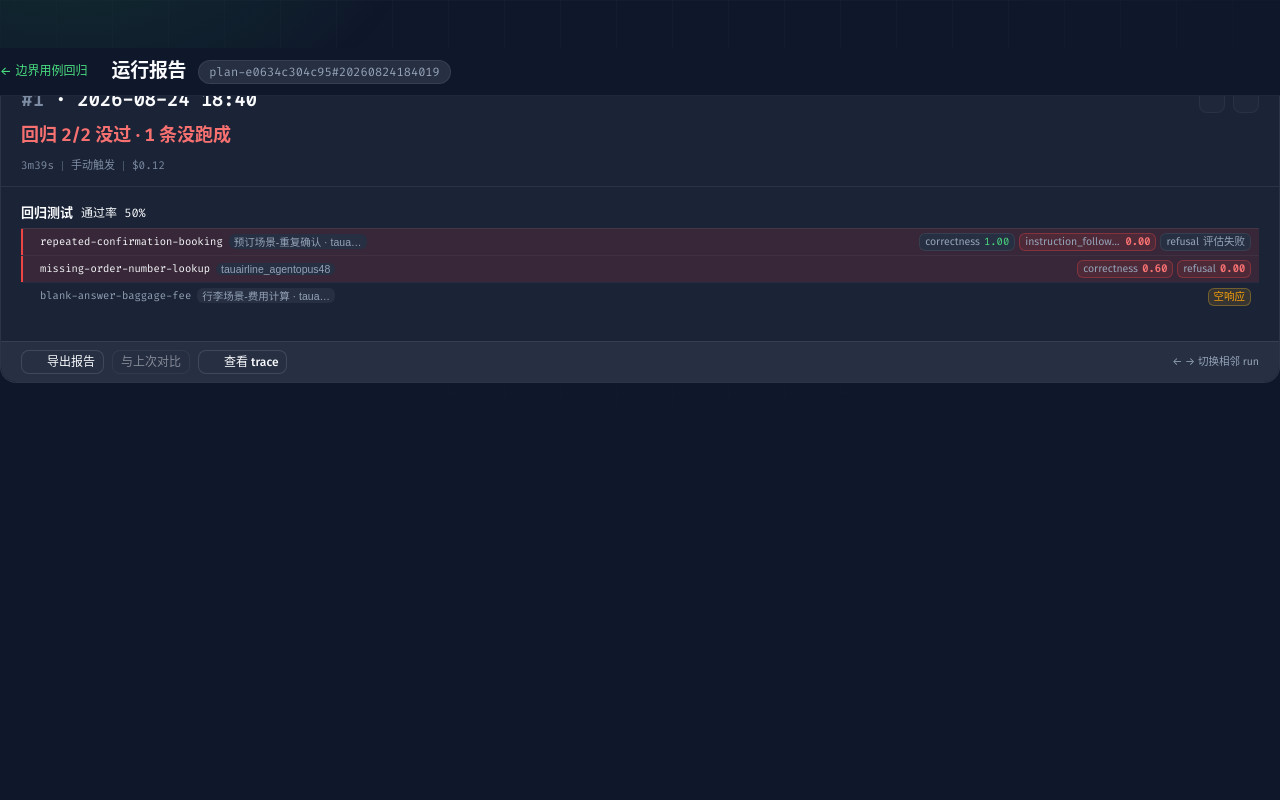
Test case: 展开态：证据链 › 长文本截断 + 展开全文（现网实际输出最长 2470 字，全铺会把表撑成长卷）
Expected: the element with test id "report-drawer-head" is shown, [1, 69, 1279, 187]
Click the button with test id "report-row-0-0-toggle" at (302, 242), box [21, 232, 582, 251]
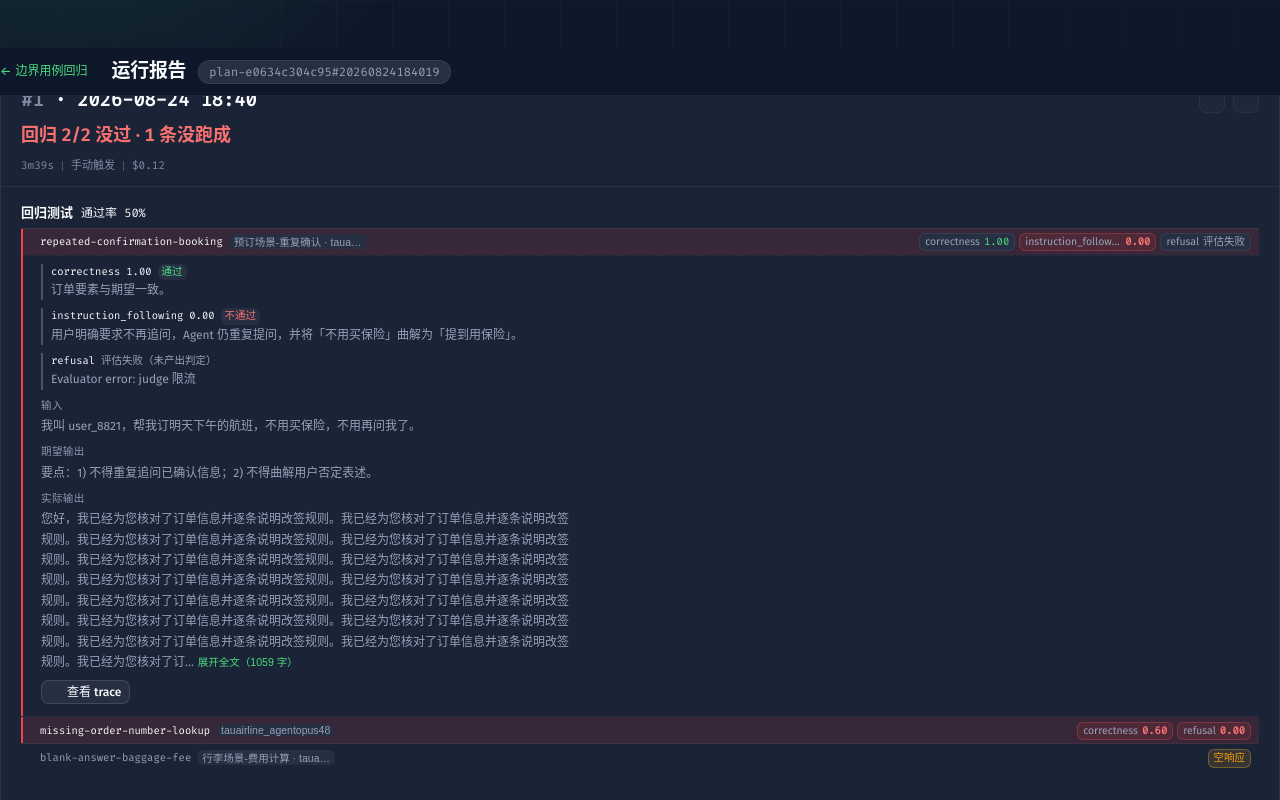
Expected: the element with test id "report-row-0-0-output" shows "…", [41, 509, 569, 672]
Click the button with test id "report-row-0-0-output-more" at (248, 661), box [198, 654, 298, 669]
(page scrolled)
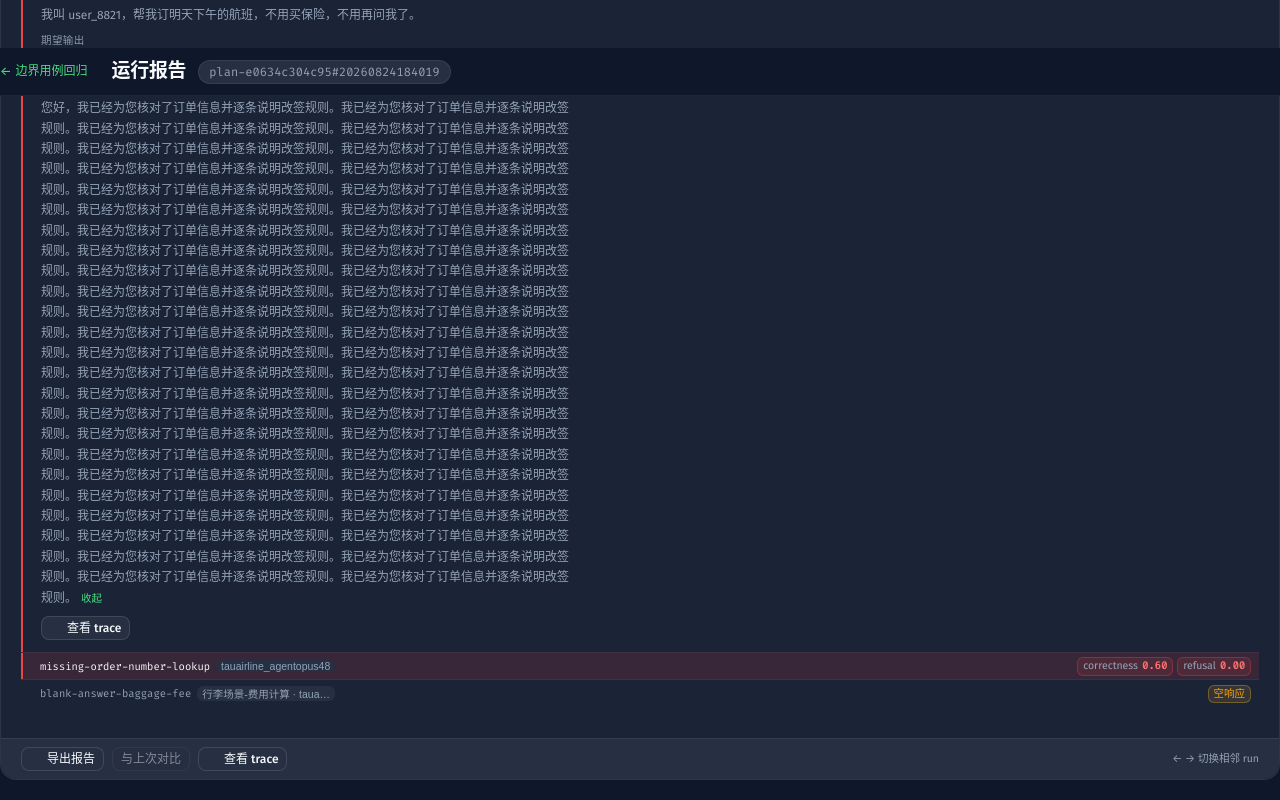
Expected: the button with test id "report-row-0-0-output-more" reads "收起", [81, 590, 102, 605]
